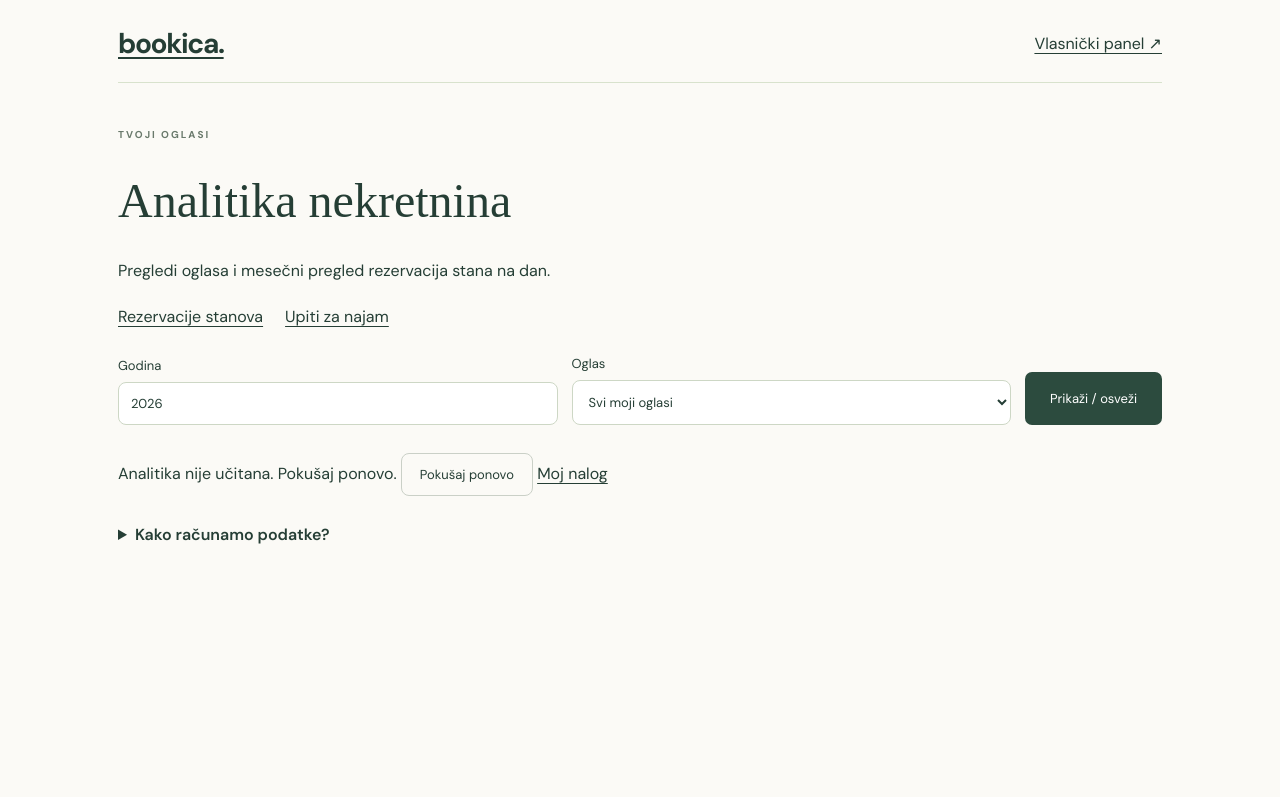
retries analytics failures and aborts requests when leaving
Click the button "Pokušaj ponovo": coordinates (467, 475) [401,453,533,496]
(page scrolled)
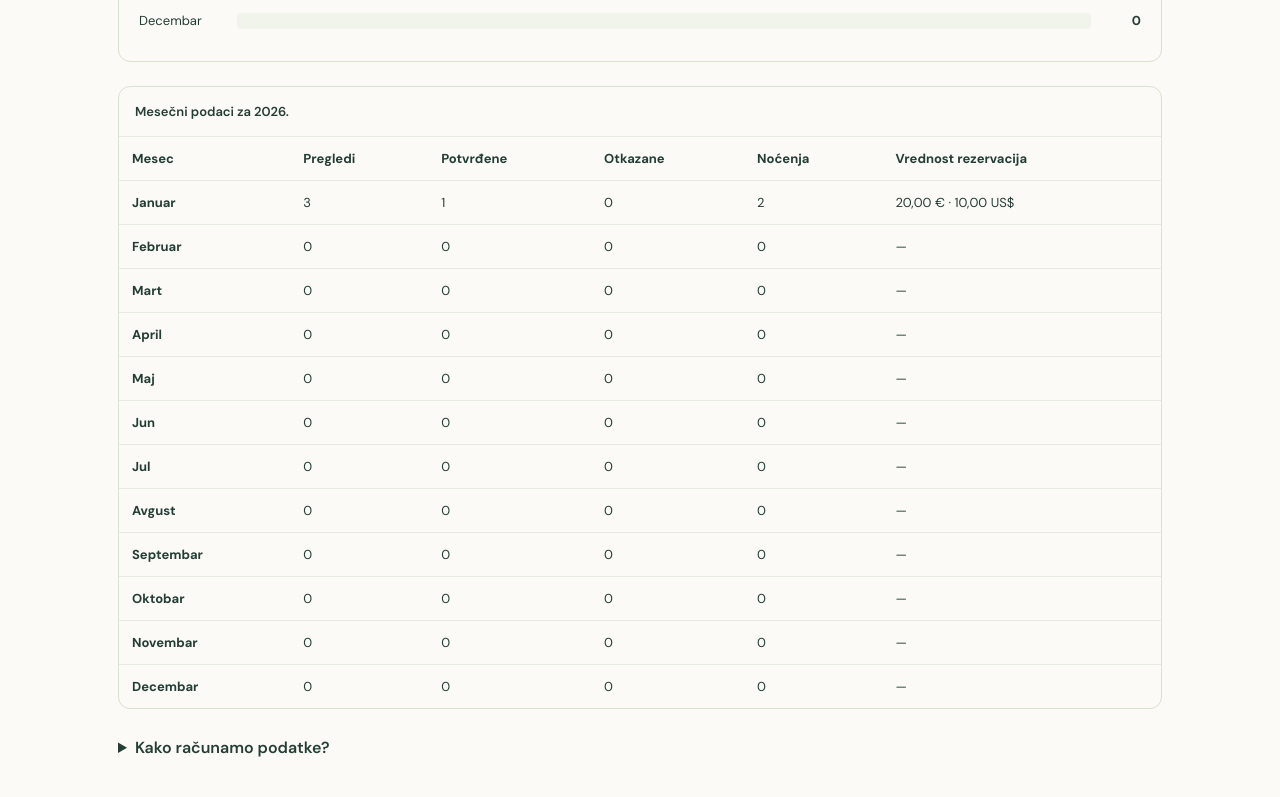
Now the table is shown
